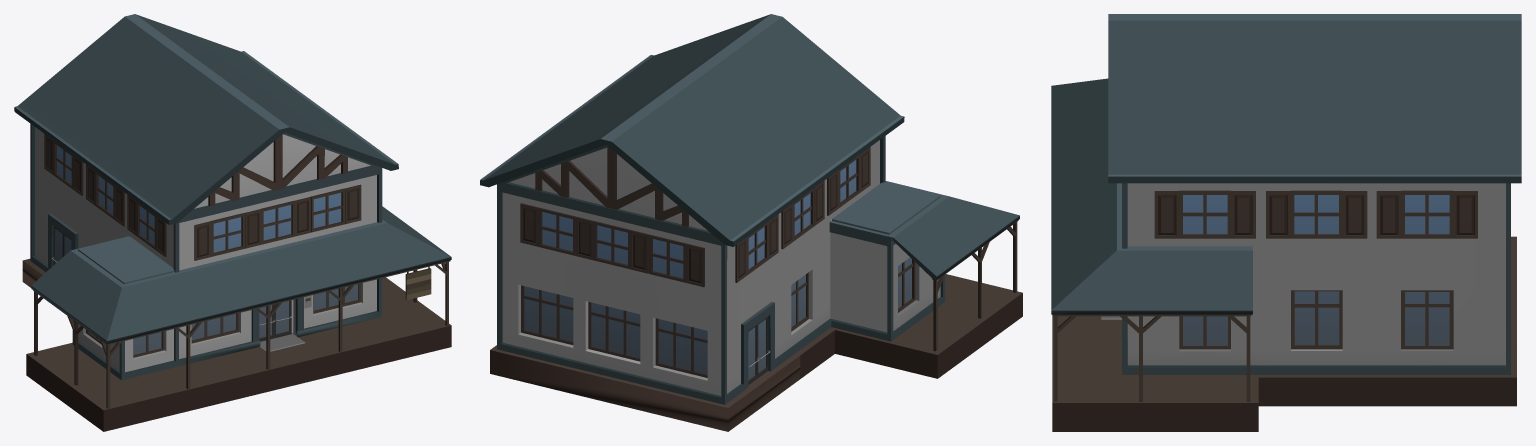
Rendered from Business_GeneralStore.glb.
The picture shows the model from 3 angles, left to right: view 1: azimuth 30°, elevation 25°; view 2: azimuth 150°, elevation 25°; view 3: azimuth 270°, elevation 25°; orthographic projection. The views are drawn at different scales.
Visible parts, largest first — view 1: base.062, windowRefl.043; view 2: base.062, windowRefl.043; view 3: base.062, windowRefl.043.
Boxes of the visible parts, <box> form: base.062: <box>14,14,451,431</box>; windowRefl.043: <box>55,145,358,354</box>; base.062: <box>480,14,1022,431</box>; windowRefl.043: <box>524,160,911,379</box>; base.062: <box>1051,14,1521,431</box>; windowRefl.043: <box>1183,195,1449,345</box>.
Size of the model in its own units: 19.41 by 12.73 by 17.
